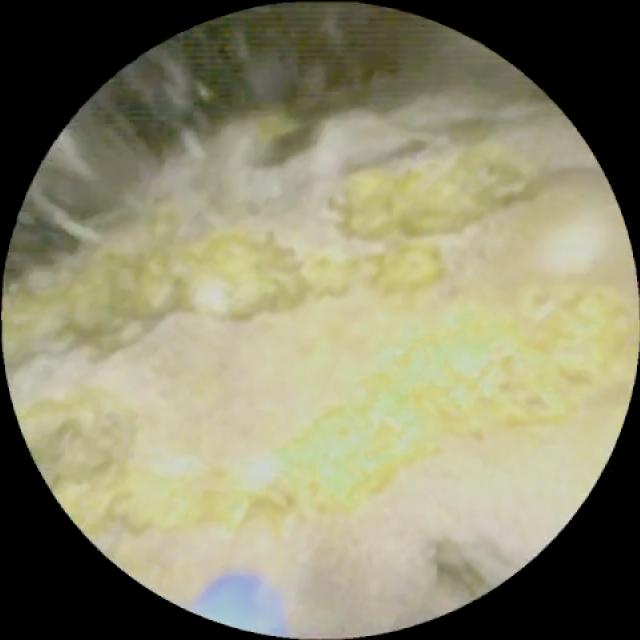fiber: (199, 577, 279, 634)
stone: (14, 89, 628, 633)
